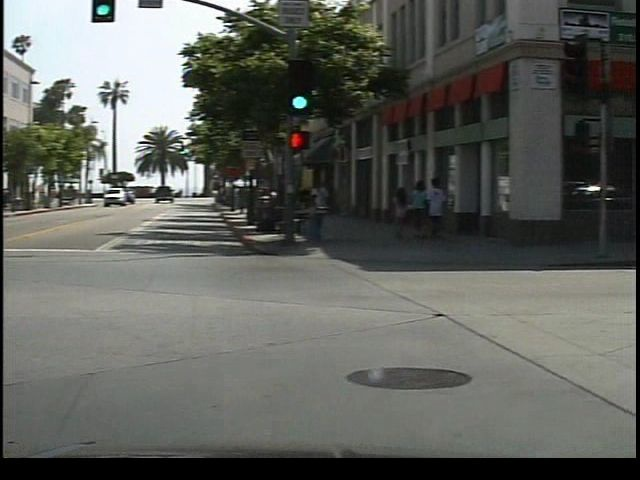person: (317, 176, 344, 234)
